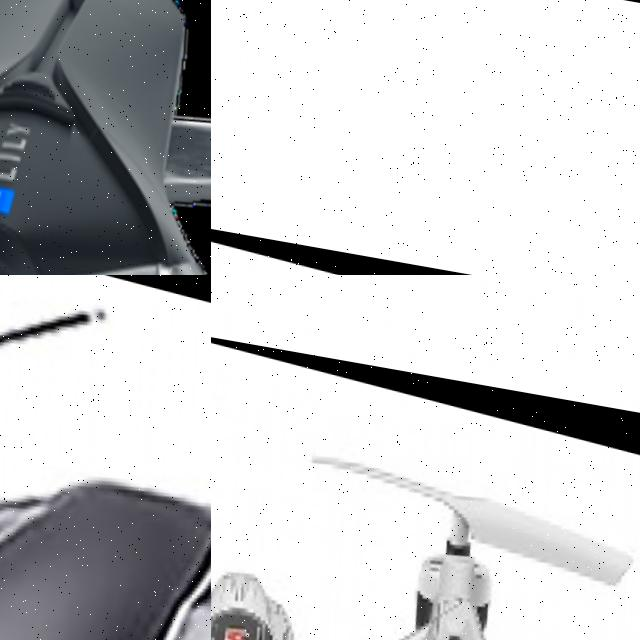drone: (211, 324, 640, 640), (0, 275, 211, 640), (0, 0, 211, 275), (211, 201, 640, 275)
